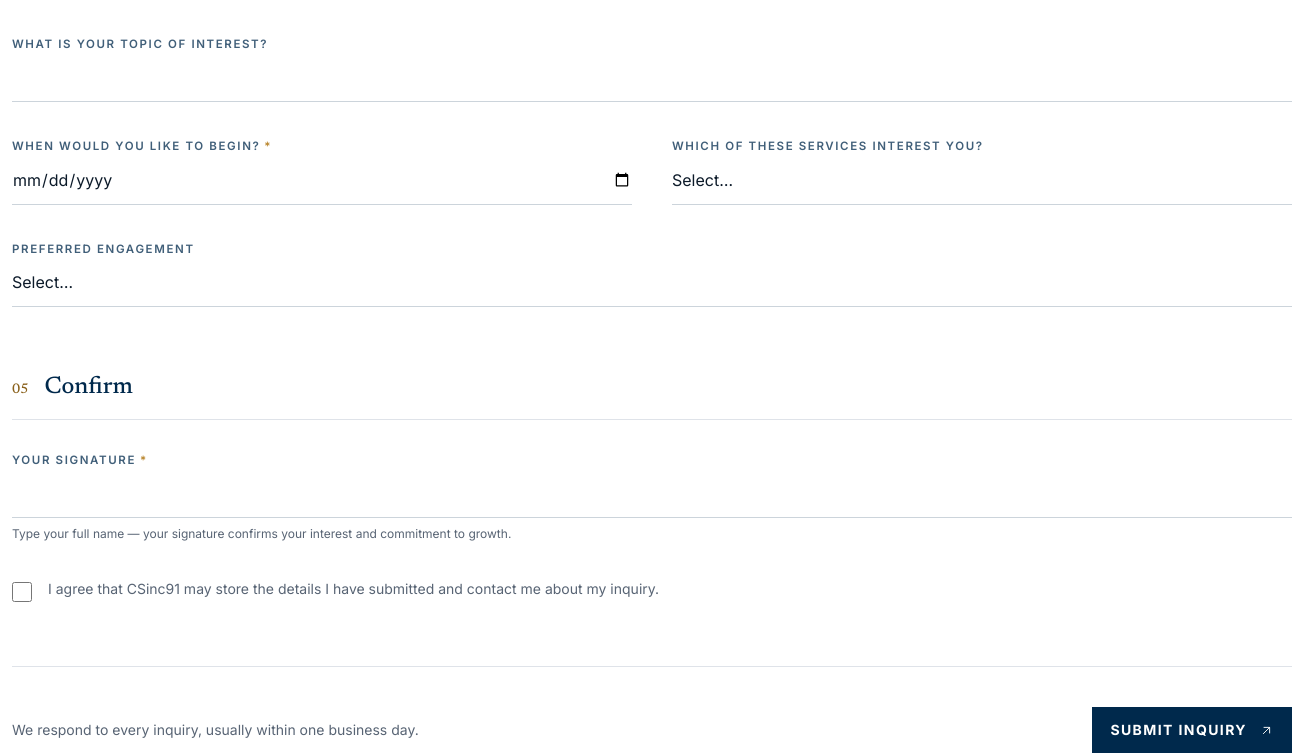
Test: ContactForm › explains rate limiting
The width and height of the screenshot is (1304, 753).
(page scrolled)
Click the button "Submit inquiry": coordinates (1192, 730) left=1092, top=707, right=1292, bottom=752
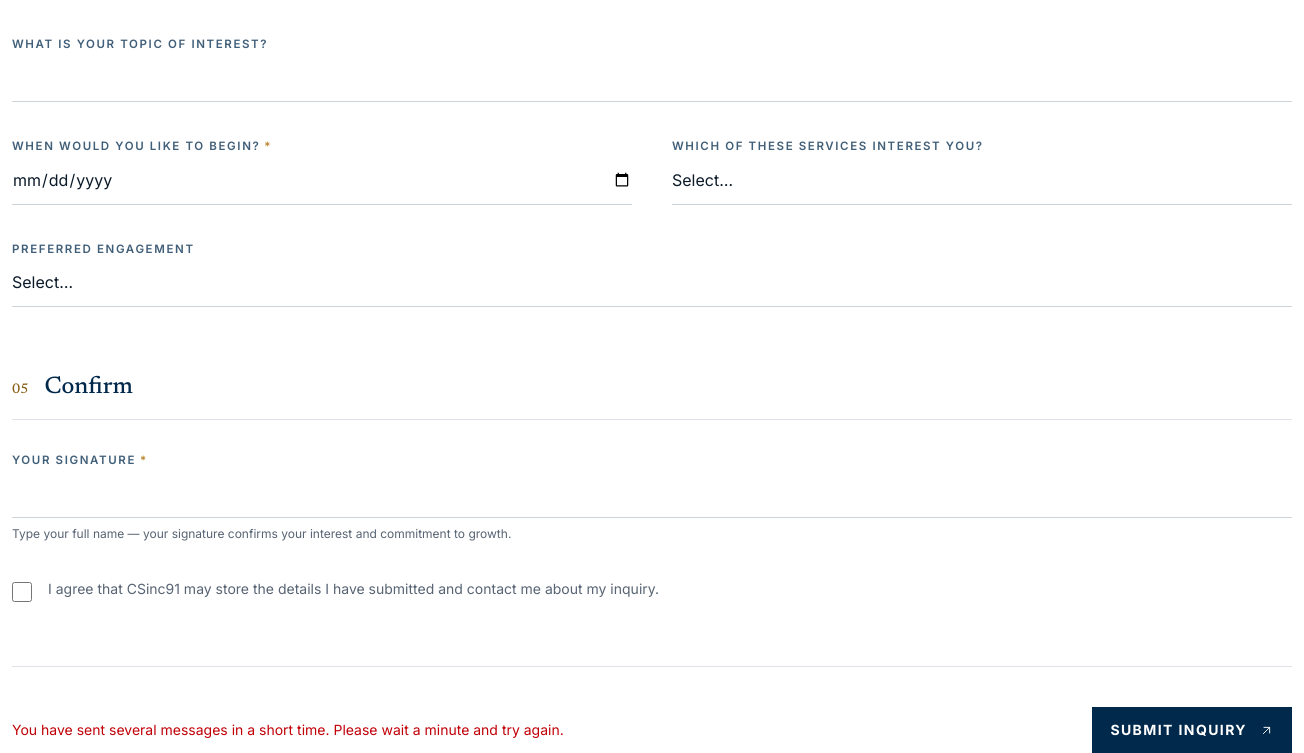
Expected: the message shows "wait a minute", left=12, top=721, right=564, bottom=738
